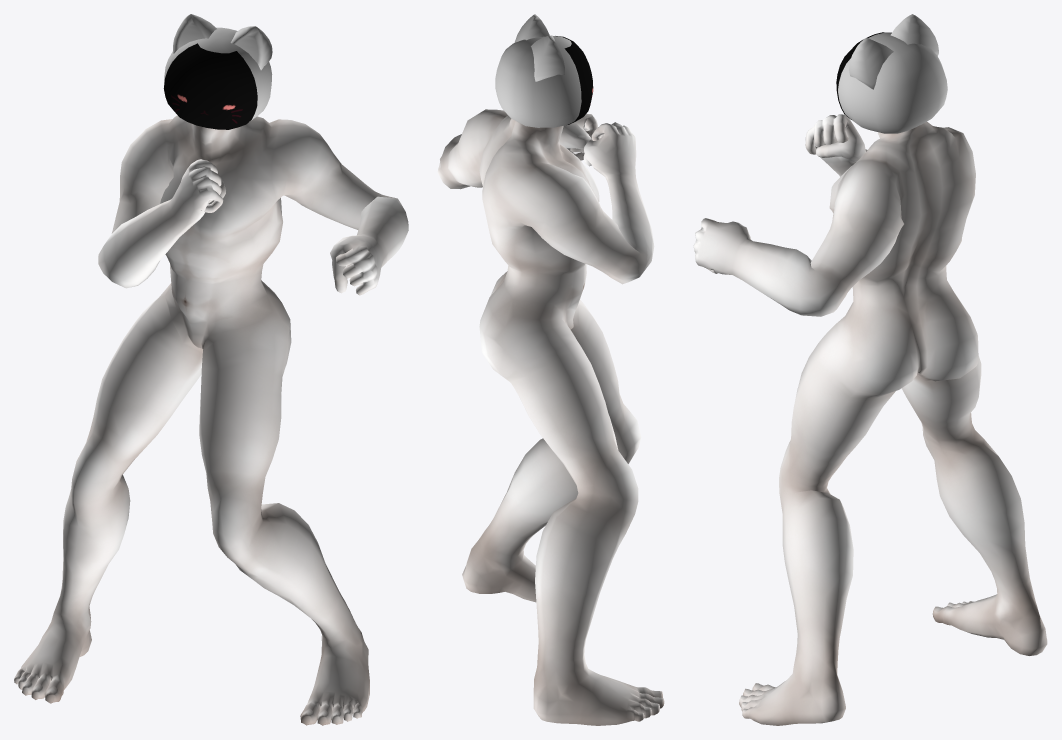
3 views of the same model, side by side, from view 1: azimuth 30°, elevation 25°; view 2: azimuth 150°, elevation 25°; view 3: azimuth 270°, elevation 25° (orthographic). The views are drawn at different scales.
Visible parts, largest first — view 1: Muscle_Body, ______?001, Cat_Head; view 2: Muscle_Body, Cat_Head, ______?001; view 3: Muscle_Body, Cat_Head.
Part boxes in pixels (<box>): Muscle_Body: <box>14,115,408,725</box>; ______?001: <box>163,43,257,129</box>; Cat_Head: <box>164,14,272,121</box>; Muscle_Body: <box>437,109,664,725</box>; Cat_Head: <box>495,14,581,127</box>; ______?001: <box>556,36,593,124</box>; Muscle_Body: <box>693,114,1047,725</box>; Cat_Head: <box>838,14,947,133</box>.
Size of the model in its own units: 13.28 by 27.8 by 13.35.
